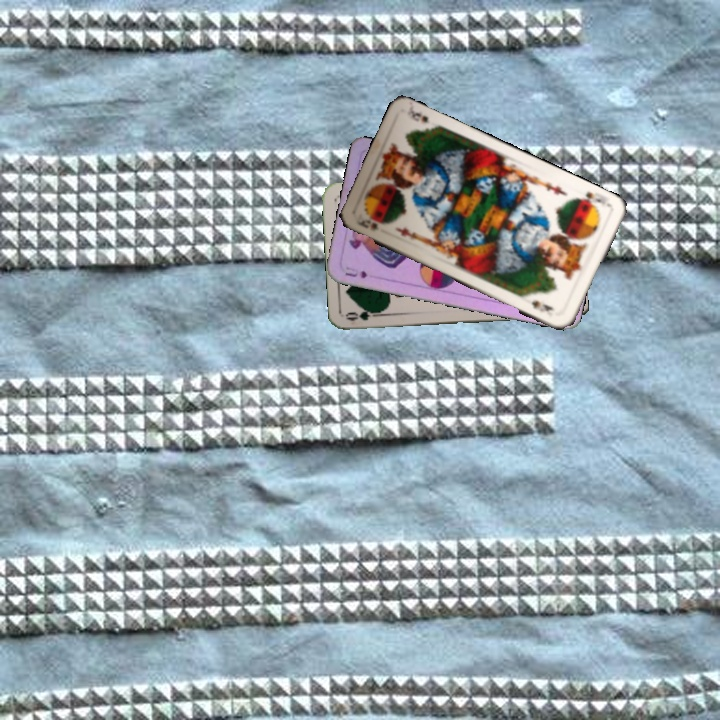GO: (343, 305, 384, 323)
SK: (572, 187, 604, 211), (351, 211, 381, 233)
SU: (341, 263, 370, 281)
